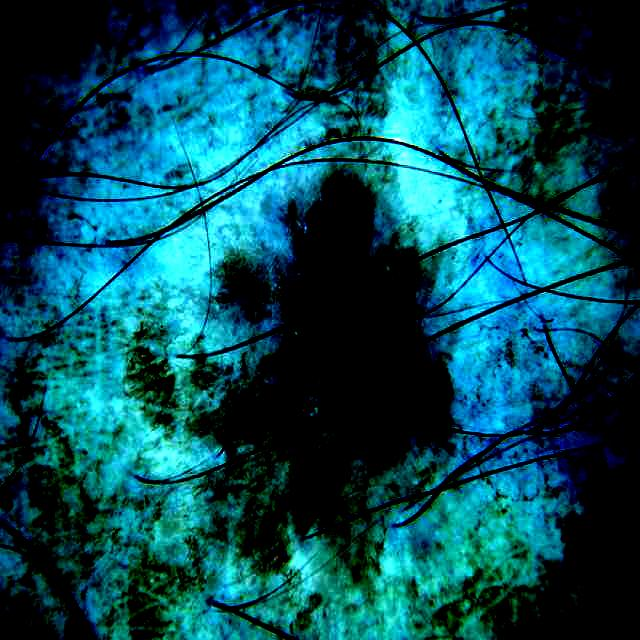BKL: (172, 267, 451, 514), (189, 166, 420, 353)
